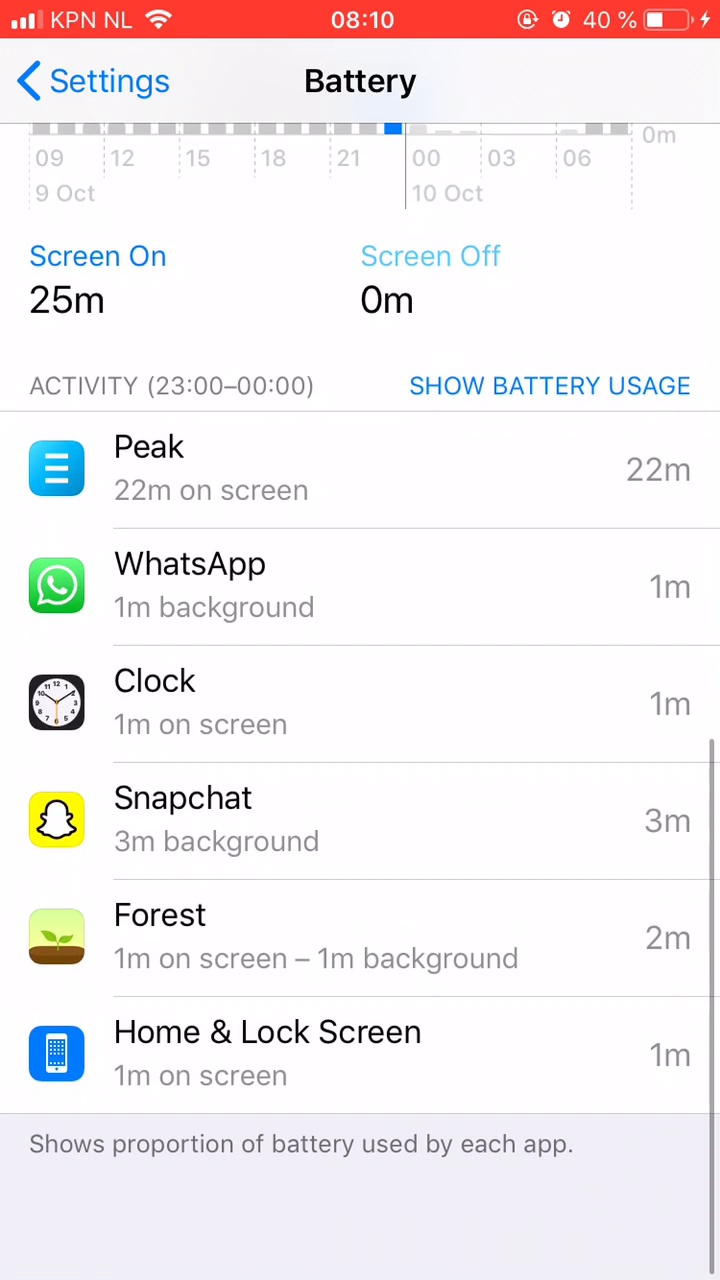activity: (14, 347, 353, 403)
app: (14, 419, 710, 513), (17, 533, 713, 627), (11, 650, 707, 744), (5, 769, 701, 863), (12, 891, 708, 985), (6, 1005, 702, 1099)
